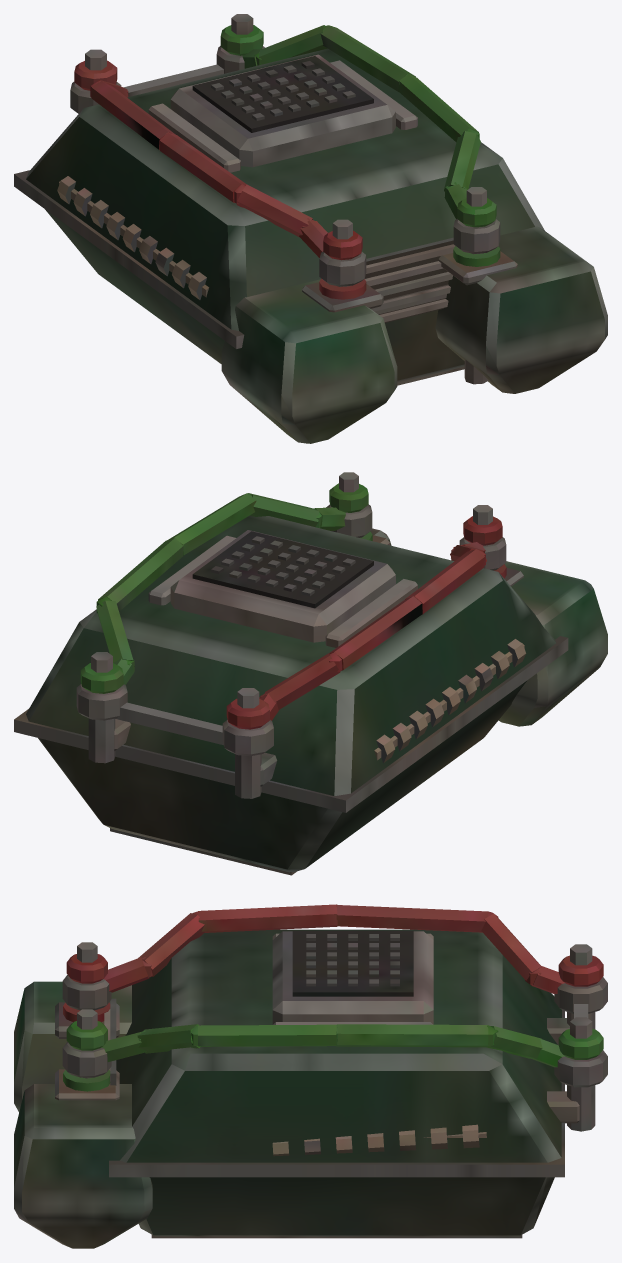
The model's file is selector-combinator.glb.
3 views of the same model, one above another, from view 1: azimuth 30°, elevation 25°; view 2: azimuth 150°, elevation 25°; view 3: azimuth 270°, elevation 25° (orthographic). The views are drawn at different scales.
Parts seen in each view (by area): view 1: body; view 2: body; view 3: body.
Boxes of the visible parts, <box> form: body: <box>14,14,607,443</box>; body: <box>14,472,607,875</box>; body: <box>14,904,607,1248</box>.
Size of the model in its own units: 0.976 by 0.641 by 1.47.
Materials: 1 (1 with a texture image).
